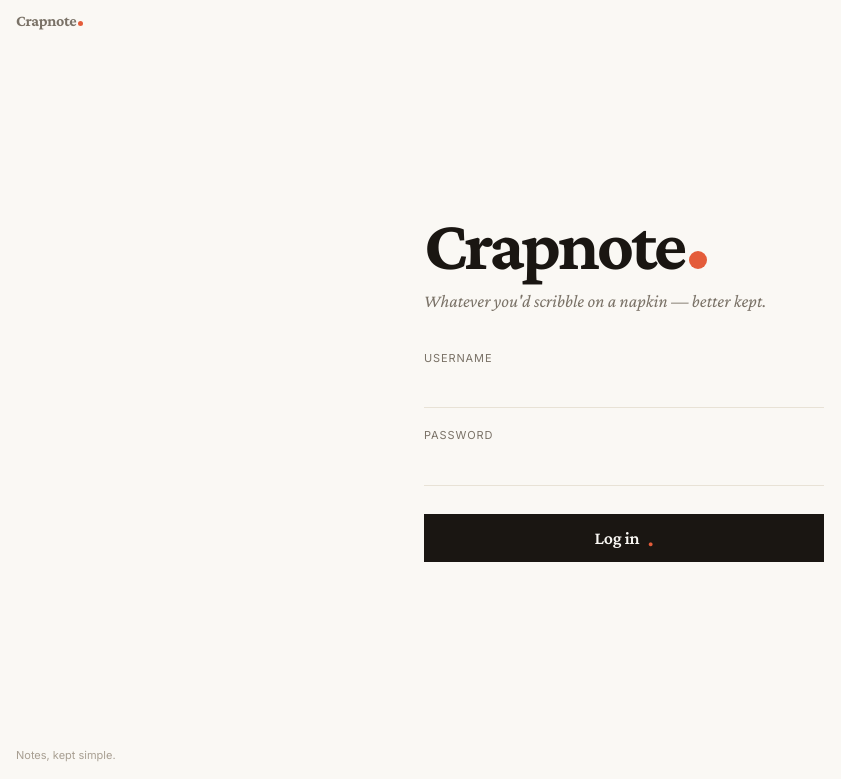
Test: Login page › shows a wait-and-retry message on a cool-down 403
The width and height of the screenshot is (841, 779).
Type "alice" into the field labelled "Username" at (624, 390), box [424,371,824,408]
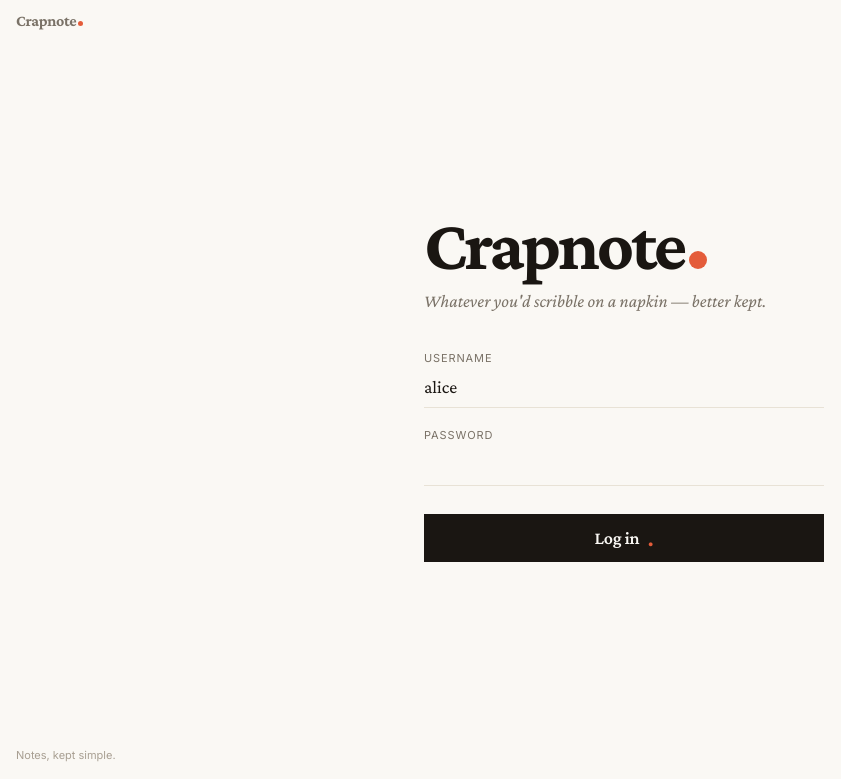
Type "right" into the password field labelled "Password" at (624, 467), box [424,449,824,486]
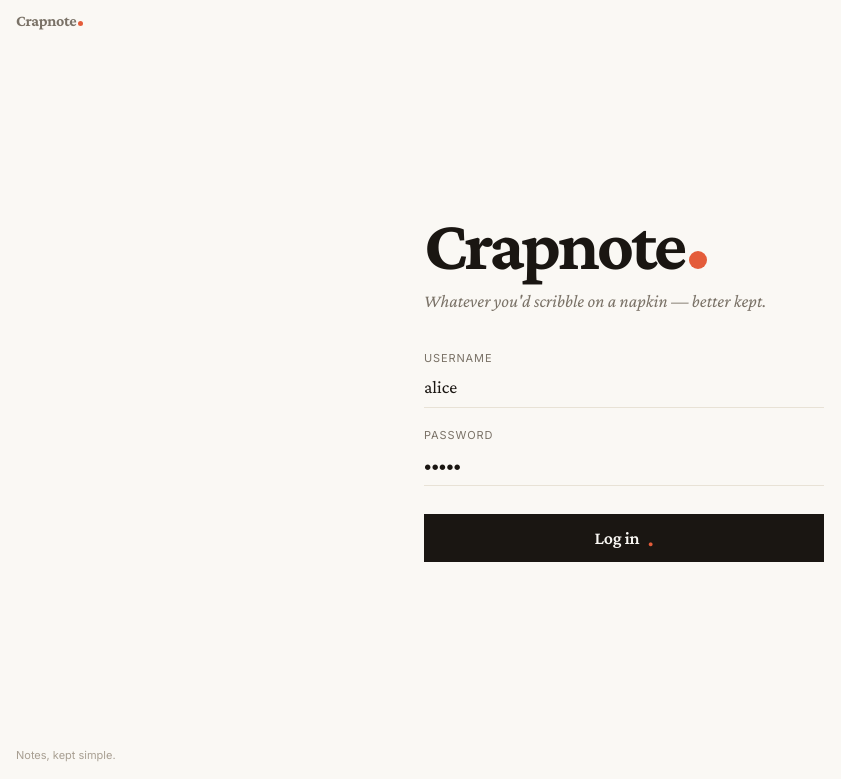
Click the button "Log in ." at (624, 538), box [424,514,824,562]
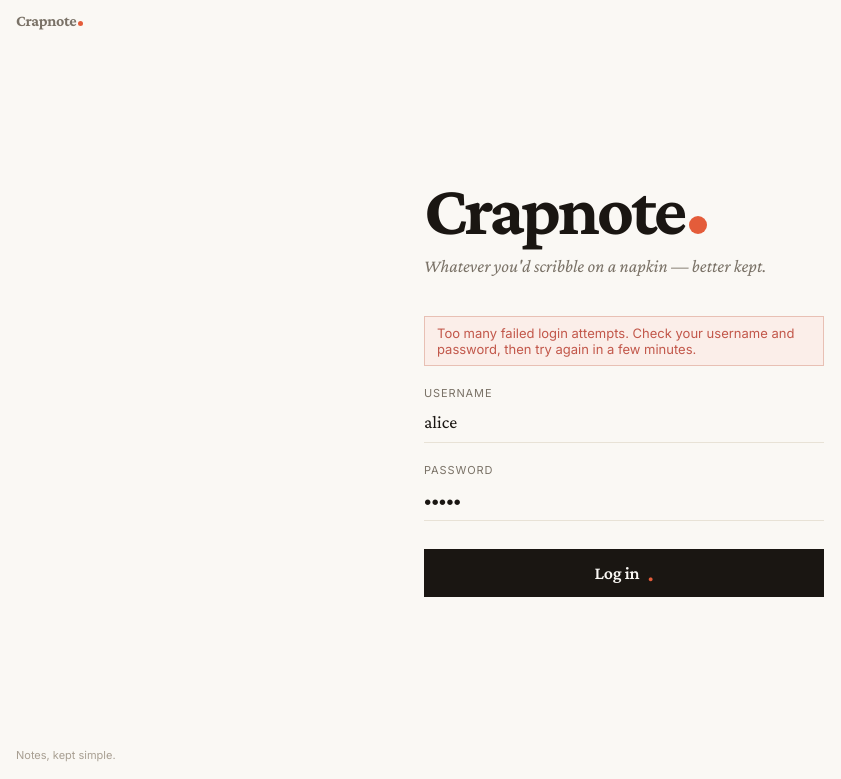
Expected: the message shows "Too many failed", [437,325,794,357]
Expected: the message shows "username", [437,325,794,357]
Expected: the message shows "few minutes", [437,325,794,357]
